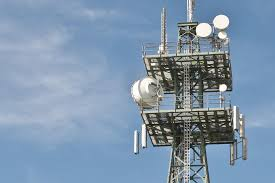ba: (128, 71, 167, 113), (191, 14, 213, 47), (210, 17, 230, 34)
sa: (223, 133, 239, 169), (136, 120, 149, 150), (126, 125, 138, 156), (229, 103, 240, 131)
